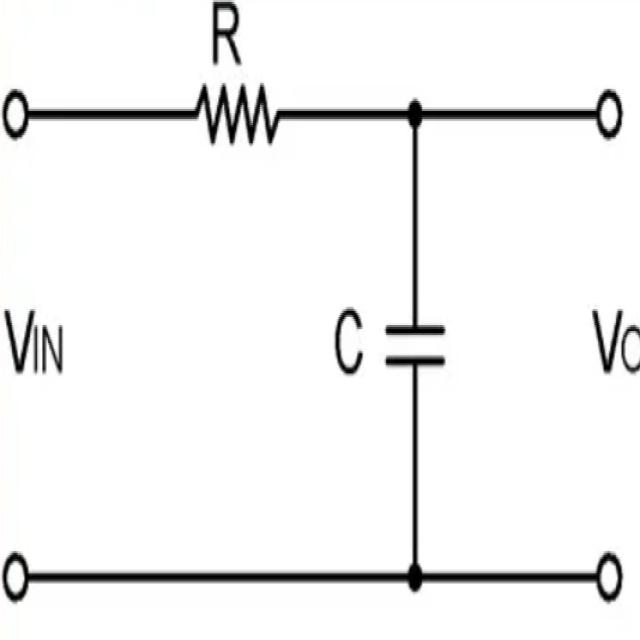cap: (381, 317, 451, 376)
net: (29, 84, 191, 144)
net_node: (31, 557, 428, 602), (406, 554, 592, 600), (403, 93, 592, 138), (284, 90, 427, 134), (404, 379, 428, 599), (404, 94, 426, 320)
res: (192, 74, 284, 153)
